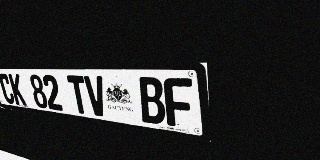2: (42, 75, 63, 111)
8: (28, 74, 49, 109)
B: (137, 77, 167, 125)
C: (0, 73, 16, 104)
F: (163, 78, 195, 129)
K: (8, 74, 27, 106)
T: (66, 75, 90, 115)
V: (84, 76, 109, 117)
